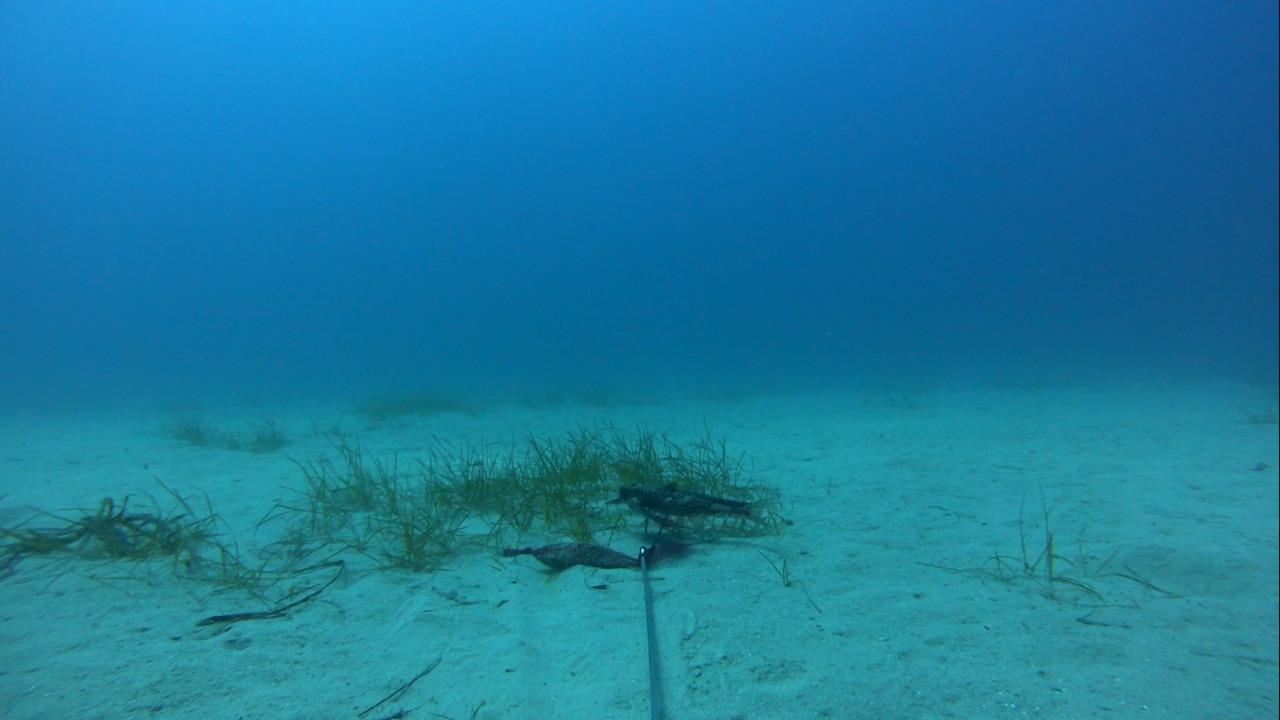dactylopterus: (606, 468, 786, 543)
